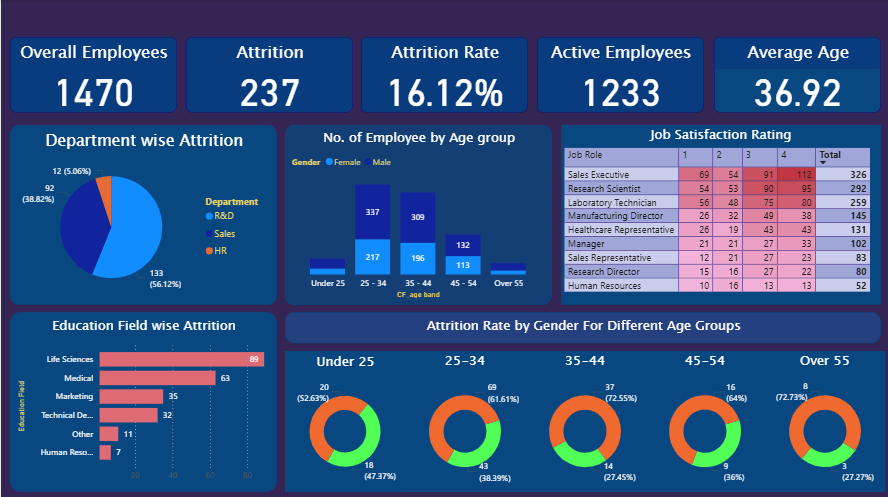

The page's visual inventory and layout, read from the dashboard file:
{"tool":"powerbi","page":{"name":"Page 1","canvas":[1280,720],"ordinal":0},"visuals":[{"type":"card","title":"Overall Employees","fields":{"Values":["Sum(HR data.Employee Count)"]},"box":[13,53.3,240.5,109.4],"z":0},{"type":"card","title":"Attrition","fields":{"Values":["Sum(HR data.Attrition_count)"]},"box":[266.4,53.3,240.5,109.4],"z":1000},{"type":"card","title":"Attrition Rate","fields":{"Values":["HR data.Attrition Rate"]},"box":[518.4,53.3,240.5,109.4],"z":2000},{"type":"card","title":"Active Employees","fields":{"Values":["HR data.Active employees"]},"box":[771.8,53.3,240.5,109.4],"z":3000},{"type":"card","title":"Average Age","fields":{"Values":["Avg(HR data.Age)"]},"box":[1026.7,53.3,240.5,109.4],"z":4000},{"type":"pieChart","title":"Department wise Attrition","fields":{"Category":["HR data.Department"],"Y":["Sum(HR data.Attrition_count)"]},"box":[13,180,384.5,259.2],"z":5000},{"type":"columnChart","title":"No. of Employee by Age group","fields":{"Category":["HR data.CF_age band"],"Y":["Sum(HR data.Employee Count)"],"Series":["HR data.Gender"]},"box":[409,180,384.5,259.2],"z":6000},{"type":"pivotTable","title":"Job Satisfaction Rating","fields":{"Rows":["HR data.Job Role"],"Values":["Sum(HR data.Employee Count)"],"Columns":["HR data.Job Satisfaction"]},"box":[806.4,180,460.8,259.2],"z":7000},{"type":"barChart","title":"Education Field wise Attrition","fields":{"Category":["HR data.Education Field"],"Y":["Sum(HR data.Attrition_count)"]},"box":[13,449,384,259],"z":8000},{"type":"donutChart","title":"Under 25","fields":{"Category":["HR data.Gender"],"Y":["Sum(HR data.Attrition_count)"],"Series":["HR data.CF_age band"]},"box":[409,505.4,172.8,203],"z":9000},{"type":"textbox","title":"Attrition Rate by Gender For Different Age Groups","box":[409,449.3,858.2,44.6],"z":10000},{"type":"donutChart","title":"25-34","fields":{"Category":["HR data.Gender"],"Y":["Sum(HR data.Attrition_count)"],"Series":["HR data.CF_age band"]},"box":[581.8,505.4,172.8,203],"z":11000},{"type":"donutChart","title":"35-44","fields":{"Category":["HR data.Gender"],"Y":["Sum(HR data.Attrition_count)"],"Series":["HR data.CF_age band"]},"box":[754.6,505.4,172.8,203],"z":12000},{"type":"donutChart","title":"45-54","fields":{"Category":["HR data.Gender"],"Y":["Sum(HR data.Attrition_count)"],"Series":["HR data.CF_age band"]},"box":[927.4,505.4,172.8,203],"z":13000},{"type":"donutChart","title":"Over 55","fields":{"Category":["HR data.Gender"],"Y":["Sum(HR data.Attrition_count)"],"Series":["HR data.CF_age band"]},"box":[1100.2,505.4,172.8,203],"z":14000}]}

Visuals, with their boxes in screenshot pixels (x1, y1, x2, y2), scaled from the page's 1280x720 canvas onto the 888x497 screenshot:
"Overall Employees" card: rect(9, 37, 176, 112)
"Attrition" card: rect(185, 37, 352, 112)
"Attrition Rate" card: rect(360, 37, 526, 112)
"Active Employees" card: rect(535, 37, 702, 112)
"Average Age" card: rect(712, 37, 879, 112)
"Department wise Attrition" pieChart: rect(9, 124, 276, 303)
"No. of Employee by Age group" columnChart: rect(284, 124, 550, 303)
"Job Satisfaction Rating" pivotTable: rect(559, 124, 879, 303)
"Education Field wise Attrition" barChart: rect(9, 310, 275, 489)
"Under 25" donutChart: rect(284, 349, 404, 489)
"Attrition Rate by Gender For Different Age Groups" textbox: rect(284, 310, 879, 341)
"25-34" donutChart: rect(404, 349, 524, 489)
"35-44" donutChart: rect(524, 349, 643, 489)
"45-54" donutChart: rect(643, 349, 763, 489)
"Over 55" donutChart: rect(763, 349, 883, 489)
